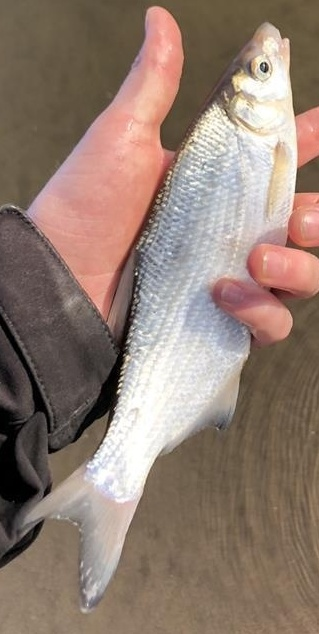Vimba vimba: (20, 20, 299, 614)
